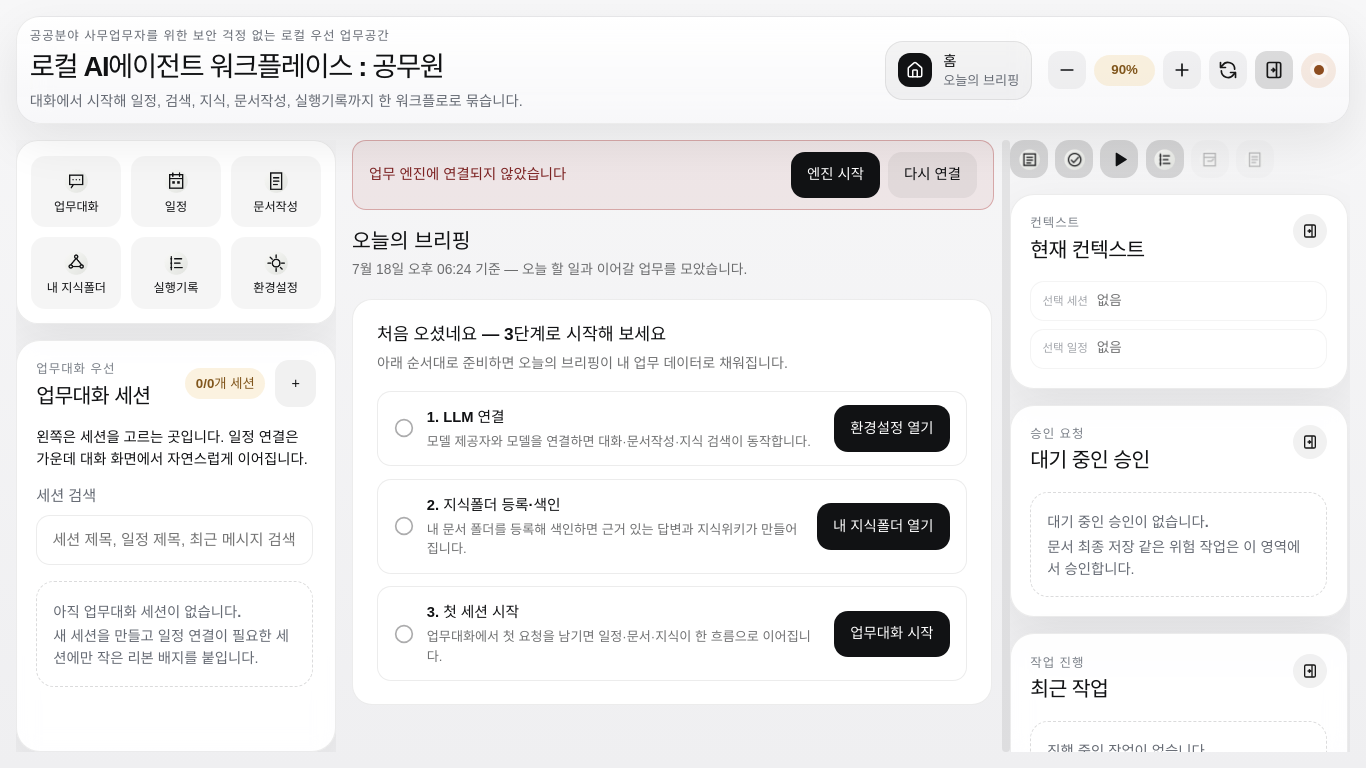
Scenario: session to documents authoring workflow › moves the active chat session into the structured authoring flow
What coordinates should you click on to do the following:
click the button "업무대화"
I would click on:
 (76, 192)
Its box is 31,156 -> 121,227.
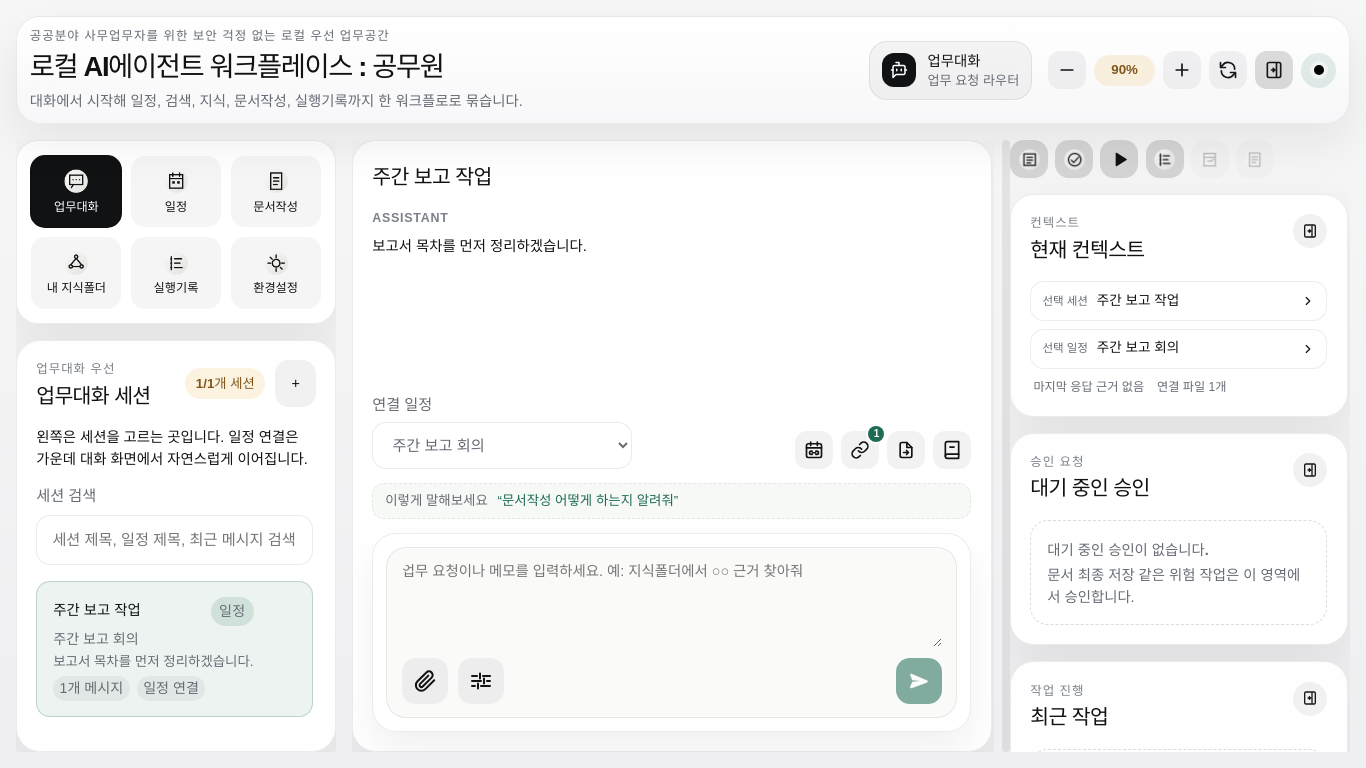
Expected: the element with test id "chat-workspace" is shown, 372,209 -> 971,732
What coordinates should you click on to do the following:
click the button named "문서작성으로 이어가기"
I would click on:
 (906, 450)
Its box is 887,431 -> 925,469.
(page scrolled)
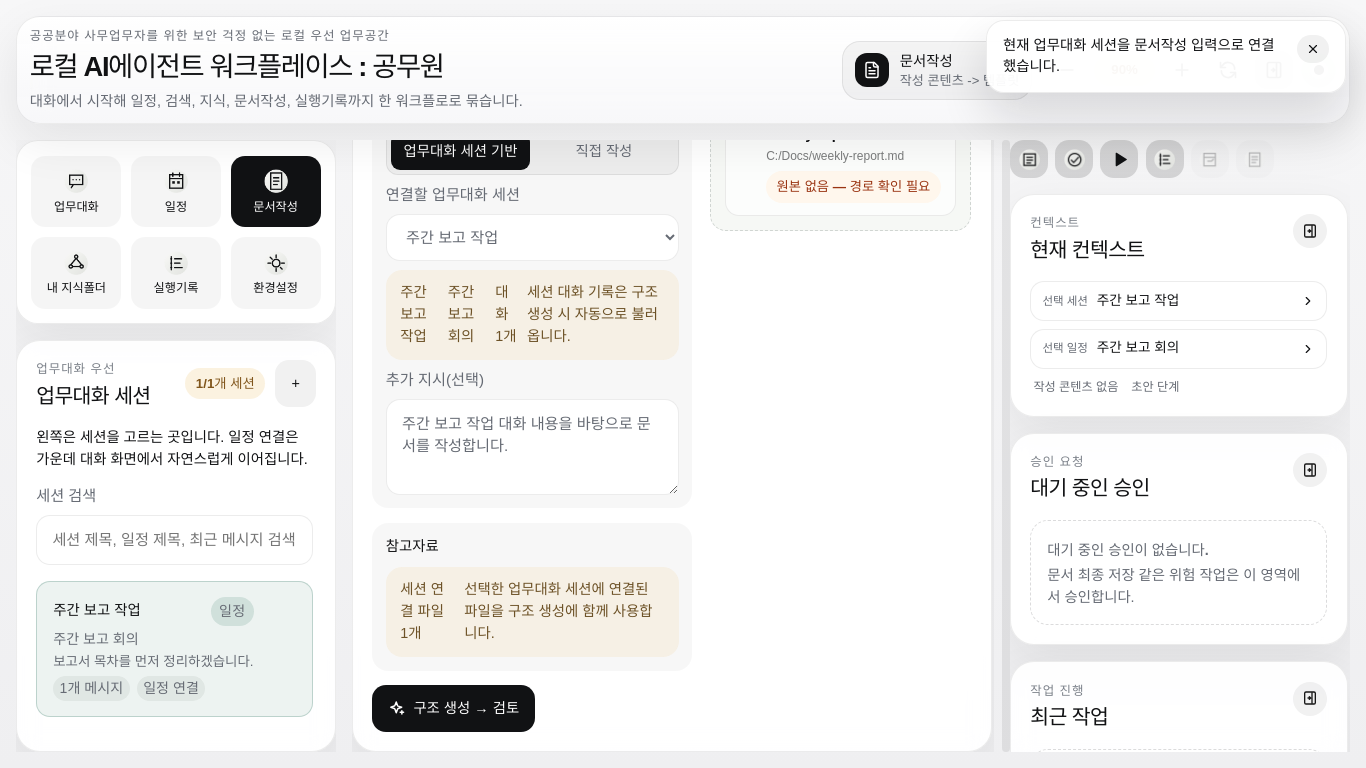
Expected: the text "세션 연결 파일 1개" is shown, 400,582 -> 444,641
